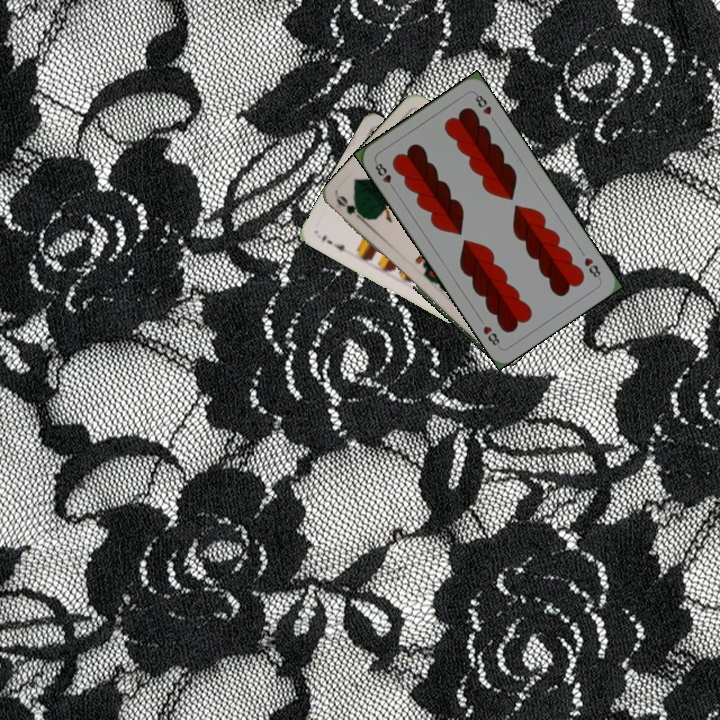E7: (318, 231, 350, 256)
GO: (333, 191, 370, 225)
H8: (371, 157, 398, 193), (580, 253, 604, 282)
